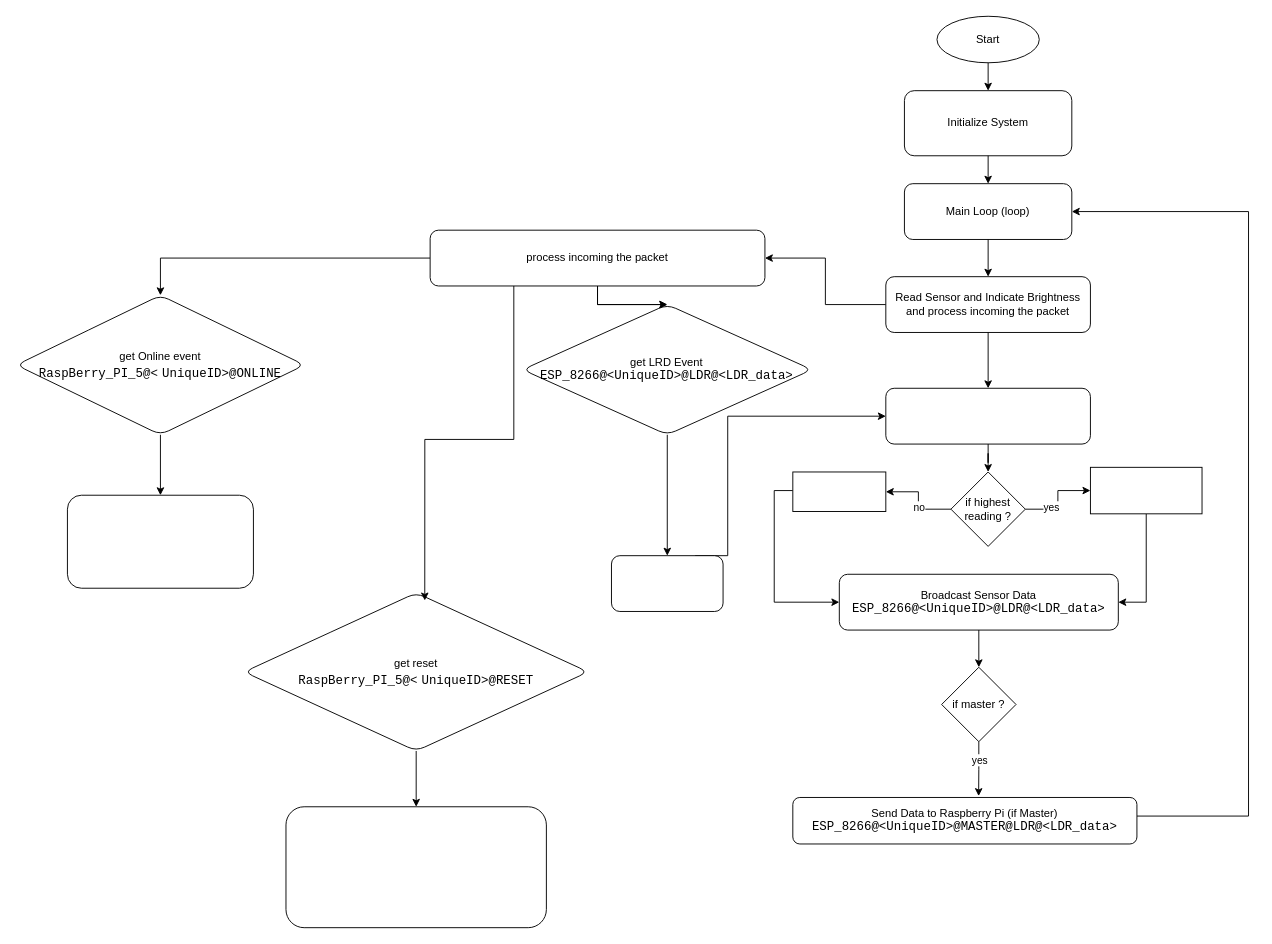
Image size: 1272x944. Some labels were removed from this diagram. The centre of each missing label's shape, as x and y in pixels:
assign as master: point (1145, 490)
assign as non master: point (839, 491)
configure the ESp8266, if not and save the LDR reading: point (667, 583)
make the device state as online: point (159, 541)
reaet all the device configuration settings: point (415, 867)
Receive and Process Data whoever's reading is high became the master: point (987, 415)
